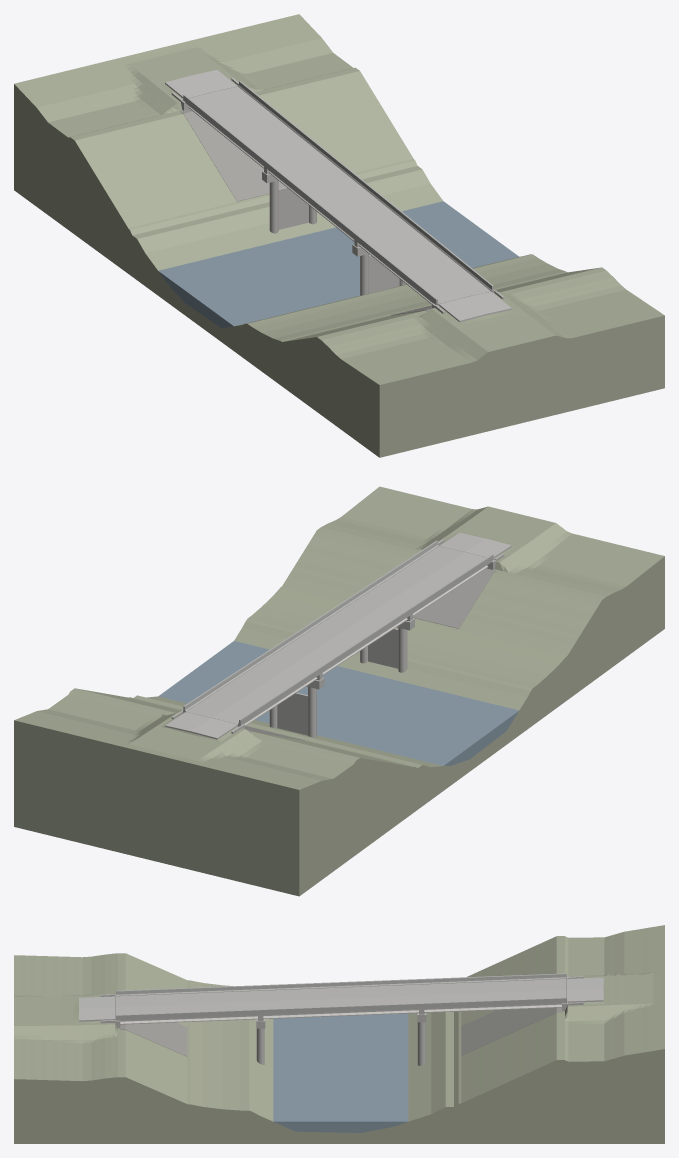
The model's file is BEECHWOOD.glb.
The picture shows the model from 3 angles, top to bottom: view 1: azimuth 30°, elevation 25°; view 2: azimuth 150°, elevation 25°; view 3: azimuth 270°, elevation 25°; orthographic projection. The views are drawn at different scales.
Visible parts, largest first — view 1: BW_GROUND, BW_GROUND_WATER, BW_DECK_B, BW_DECK_C, BW_DECK_A, BW_GROUND_RIPRAP_S, BW_RAIL_R, BW_RAIL_L, BW_APPR_N, BW_APPR_S, BW_WALL_B2, BW_WALL_B3; view 2: BW_GROUND, BW_GROUND_WATER, BW_DECK_B, BW_DECK_A, BW_DECK_C, BW_RAIL_R, BW_GROUND_RIPRAP_N, BW_RAIL_L, BW_APPR_S, BW_WALL_B2, BW_APPR_N, BW_WALL_B3; view 3: BW_GROUND, BW_GROUND_WATER, BW_DECK_B, BW_DECK_A, BW_DECK_C, BW_RAIL_L, BW_RAIL_R, BW_GROUND_RIPRAP_S, BW_GROUND_RIPRAP_N, BW_APPR_S, BW_APPR_N, BW_BEAM_B4 (+3 smaller).
Part boxes in pixels (x1,y1,x2,y2): BW_GROUND: (14,14,664,457); BW_GROUND_WATER: (158,201,518,328); BW_DECK_B: (264,152,409,239); BW_DECK_C: (355,225,490,304); BW_DECK_A: (183,86,318,166); BW_GROUND_RIPRAP_S: (180,109,286,201); BW_RAIL_R: (238,81,493,291); BW_RAIL_L: (183,94,438,304); BW_APPR_N: (439,291,511,322); BW_APPR_S: (165,70,237,98); BW_WALL_B2: (278,187,308,229); BW_WALL_B3: (369,255,399,293); BW_GROUND: (14,486,664,896); BW_GROUND_WATER: (158,641,519,765); BW_DECK_B: (267,599,412,672); BW_DECK_A: (186,658,321,725); BW_DECK_C: (358,546,493,613); BW_RAIL_R: (183,540,438,711); BW_GROUND_RIPRAP_N: (413,568,495,628); BW_RAIL_L: (238,554,493,725); BW_APPR_S: (165,712,237,739); BW_WALL_B2: (277,692,307,735); BW_APPR_N: (439,532,511,558); BW_WALL_B3: (368,628,398,668); BW_GROUND: (14,925,664,1143); BW_GROUND_WATER: (273,1013,408,1132); BW_DECK_B: (260,984,421,1015); BW_DECK_A: (421,979,566,1009); BW_DECK_C: (116,990,260,1020); BW_RAIL_L: (116,973,566,996); BW_RAIL_R: (116,997,566,1020); BW_GROUND_RIPRAP_S: (461,1007,562,1055); BW_GROUND_RIPRAP_N: (120,1022,187,1056); BW_APPR_S: (567,977,603,1002); BW_APPR_N: (79,996,115,1021); BW_BEAM_B4: (263,1009,418,1018).
Bounding box in the file's own units: 49.99 × 18.07 × 111.
